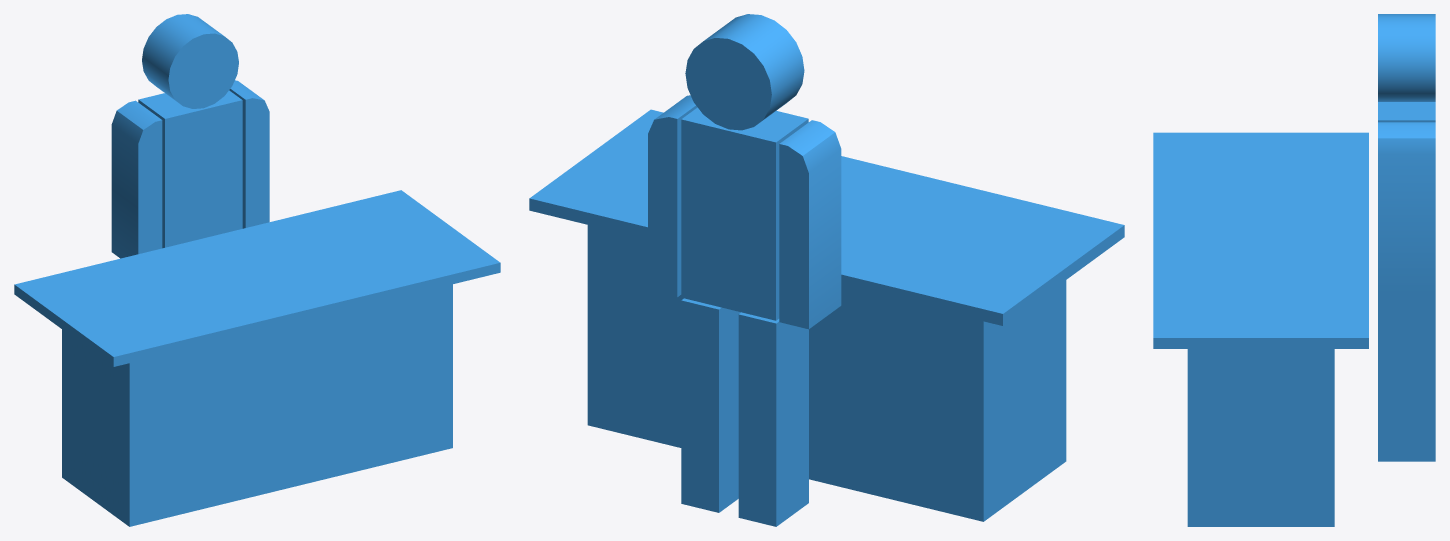
Rendered from Service.obj.
The picture shows the model from 3 angles, left to right: view 1: azimuth 30°, elevation 25°; view 2: azimuth 150°, elevation 25°; view 3: azimuth 270°, elevation 25°; orthographic projection. The views are drawn at different scales.
Parts seen in each view (by area): view 1: Service; view 2: Service; view 3: Service.
Boxes of the visible parts, box(x1,y1,x2,y2) form: Service: box(14, 14, 500, 526); Service: box(529, 14, 1124, 526); Service: box(1153, 14, 1435, 526).
Bounding box in the file's own units: 1.27 × 1.22 × 0.7381.
